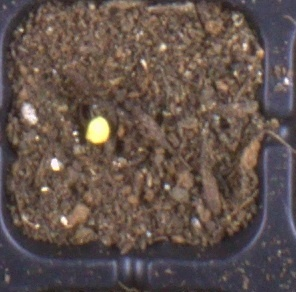chilli seed: (84, 115, 110, 145)
